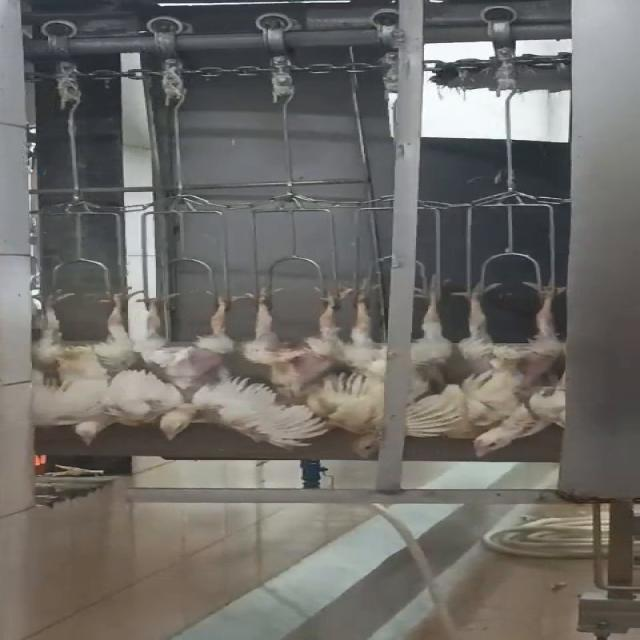chicken: (133, 285, 319, 448), (326, 274, 446, 463), (455, 278, 579, 458), (236, 281, 352, 412), (39, 291, 133, 447)
